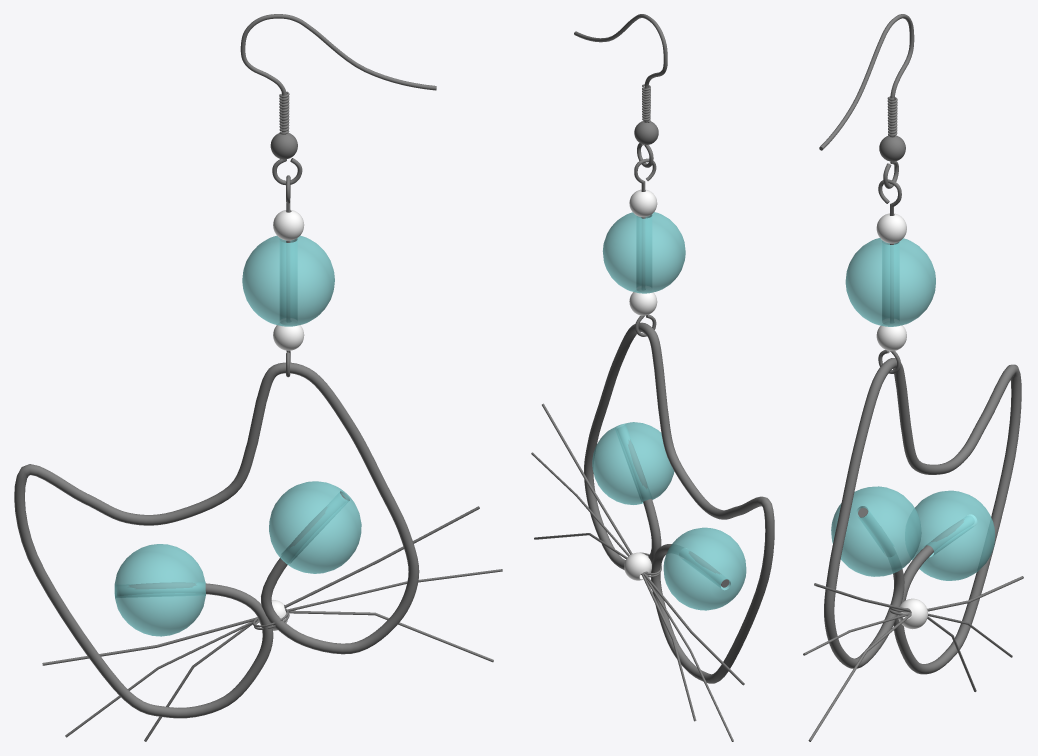
Rendered from ear3.FBX.
3 renders of one model, left to right at view 1: azimuth 30°, elevation 25°; view 2: azimuth 150°, elevation 25°; view 3: azimuth 270°, elevation 25°, orthographic. The views are drawn at different scales.
Visible parts, largest first — view 1: wire008, bead_002, bead011, bead010, hook001, wire005, wire007, wire009; view 2: wire008, bead011, bead010, bead_002, hook001, wire005, wire007, wire009, bead007, bead008, bead006, detail001 (+1 smaller); view 3: wire008, bead010, bead_002, bead011, hook001, wire009, bead007, wire005, bead006, wire007, bead008, bead009 (+2 smaller).
Boxes of the visible parts, x1=… form: wire008: x1=14, y1=362, x2=419, y2=718; bead_002: x1=269, y1=481, x2=361, y2=573; bead011: x1=114, y1=544, x2=205, y2=636; bead010: x1=242, y1=235, x2=334, y2=326; hook001: x1=240, y1=14, x2=436, y2=185; wire005: x1=42, y1=506, x2=479, y2=665; wire007: x1=65, y1=569, x2=502, y2=737; wire009: x1=144, y1=610, x2=493, y2=741; wire008: x1=584, y1=322, x2=774, y2=683; bead011: x1=663, y1=527, x2=746, y2=610; bead010: x1=602, y1=212, x2=685, y2=293; bead_002: x1=592, y1=422, x2=674, y2=504; hook001: x1=574, y1=14, x2=667, y2=167; wire005: x1=542, y1=403, x2=744, y2=685; wire007: x1=531, y1=452, x2=733, y2=741; wire009: x1=534, y1=533, x2=696, y2=721; bead007: x1=629, y1=189, x2=657, y2=217; bead008: x1=624, y1=552, x2=651, y2=580; bead006: x1=629, y1=292, x2=657, y2=315; detail001: x1=634, y1=158, x2=656, y2=336; wire008: x1=824, y1=358, x2=1021, y2=674; bead010: x1=845, y1=238, x2=935, y2=326; bead_002: x1=831, y1=486, x2=921, y2=576; bead011: x1=912, y1=490, x2=995, y2=580; hook001: x1=819, y1=14, x2=914, y2=188; wire009: x1=808, y1=612, x2=976, y2=741; bead007: x1=876, y1=213, x2=906, y2=243; wire005: x1=814, y1=576, x2=1023, y2=611; bead006: x1=876, y1=325, x2=906, y2=351; wire007: x1=803, y1=612, x2=1012, y2=657; bead008: x1=897, y1=598, x2=927, y2=629; bead009: x1=879, y1=135, x2=905, y2=161.
Bounding box in the file's own units: 2.81 × 5.19 × 1.45.
